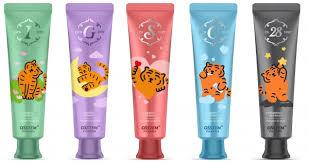toothpaste: (1, 1, 59, 160), (64, 0, 116, 162), (185, 0, 237, 162), (125, 0, 177, 161), (249, 0, 298, 158)
